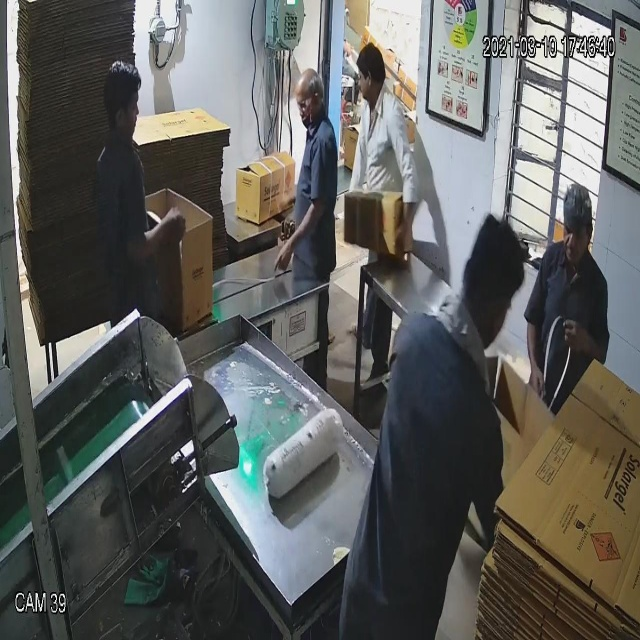Sin_guantes: (118, 192, 199, 269), (389, 122, 428, 274), (268, 194, 324, 291), (564, 300, 613, 382), (516, 301, 550, 405)
